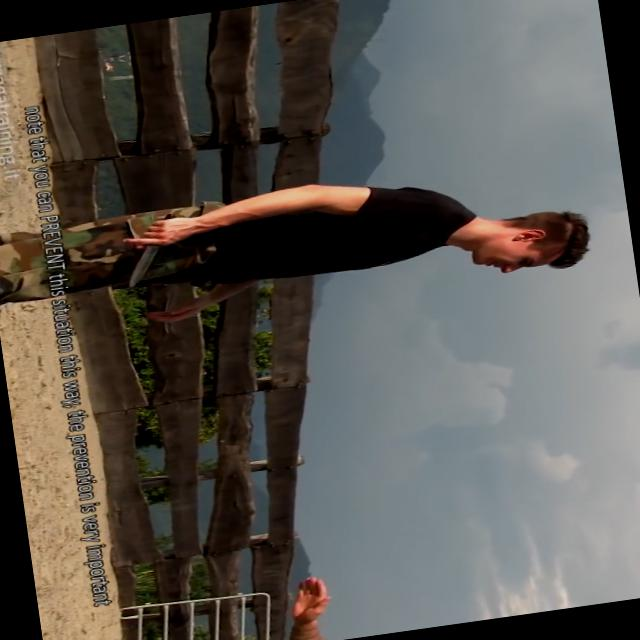knife: (110, 206, 196, 292)
